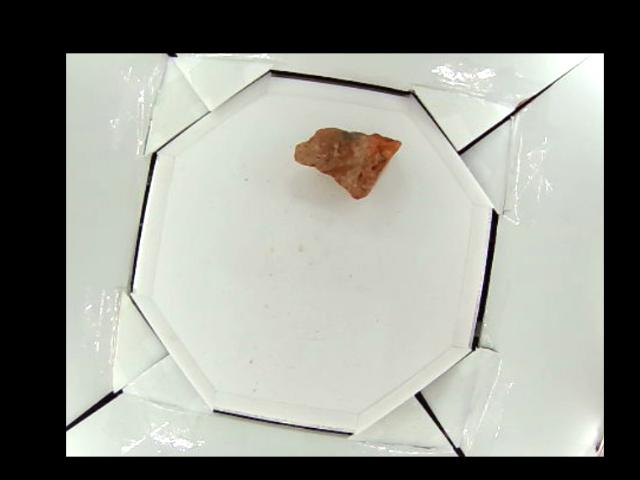Brisk: (294, 128, 403, 197)
